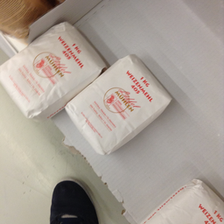flour: (65, 55, 172, 155), (1, 23, 106, 121), (135, 180, 224, 223)
